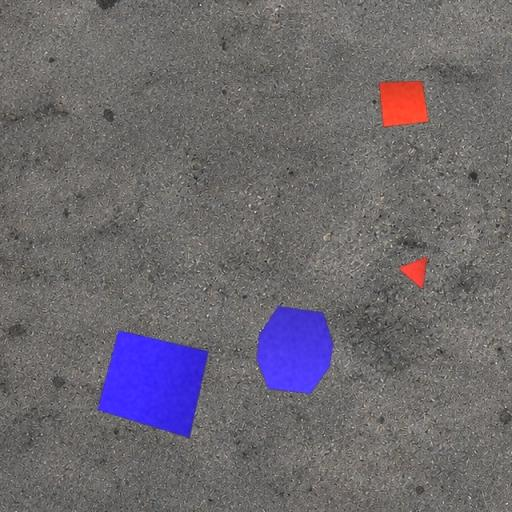BLUE_SQUARE: (97, 330, 209, 438)
RED_SQUARE: (378, 80, 429, 128)
